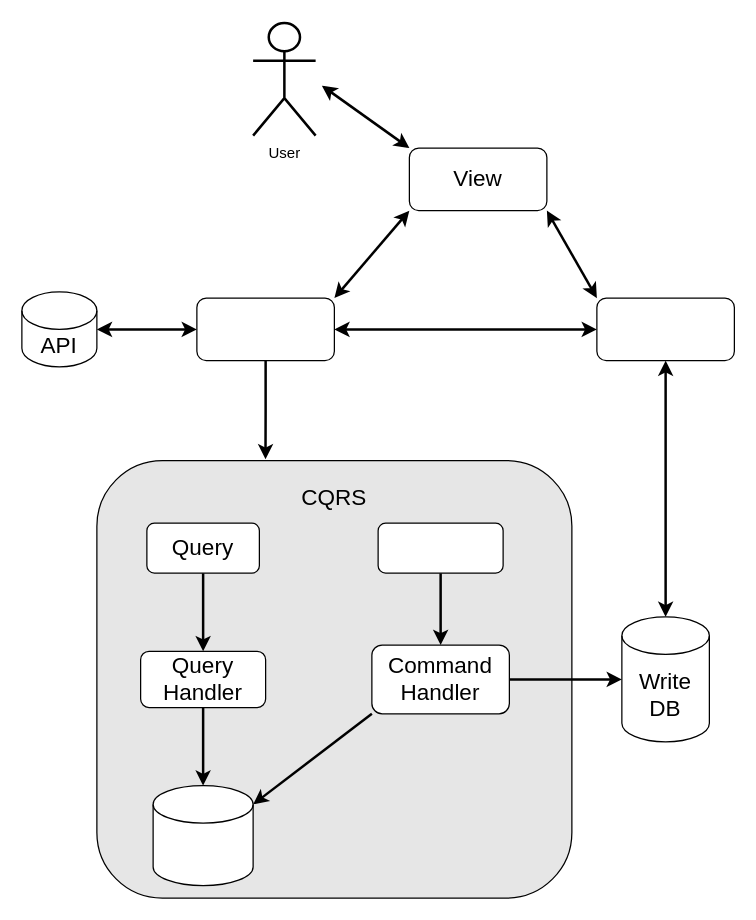
Some shapes in this 756 by 920 pixel diagram are drawn without their labels. Here are the shapes that lost their labels. From the top down, the centre of each, then its label:
At point 265,329: "Controller".
At point 665,329: "Model".
At point 440,547: "Command".
At point 202,835: "Read DB".
